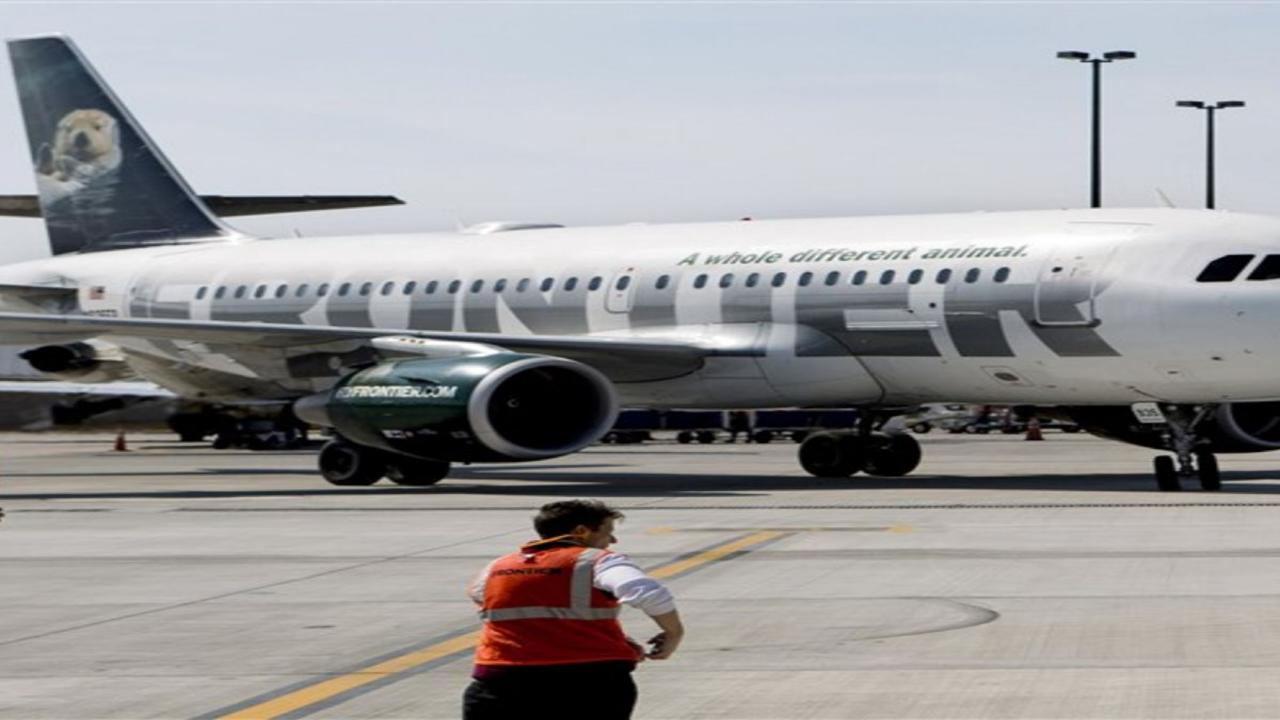Airplane: (0, 31, 1280, 499)
